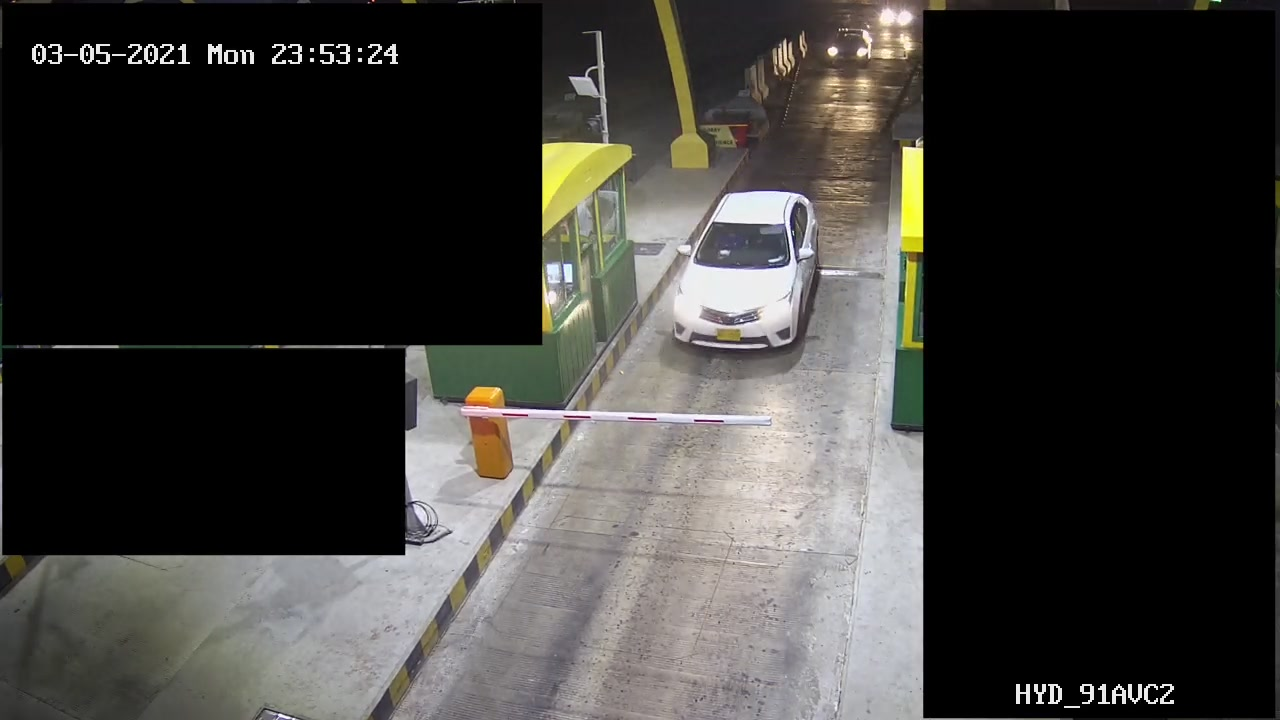F1: (662, 182, 828, 370)
